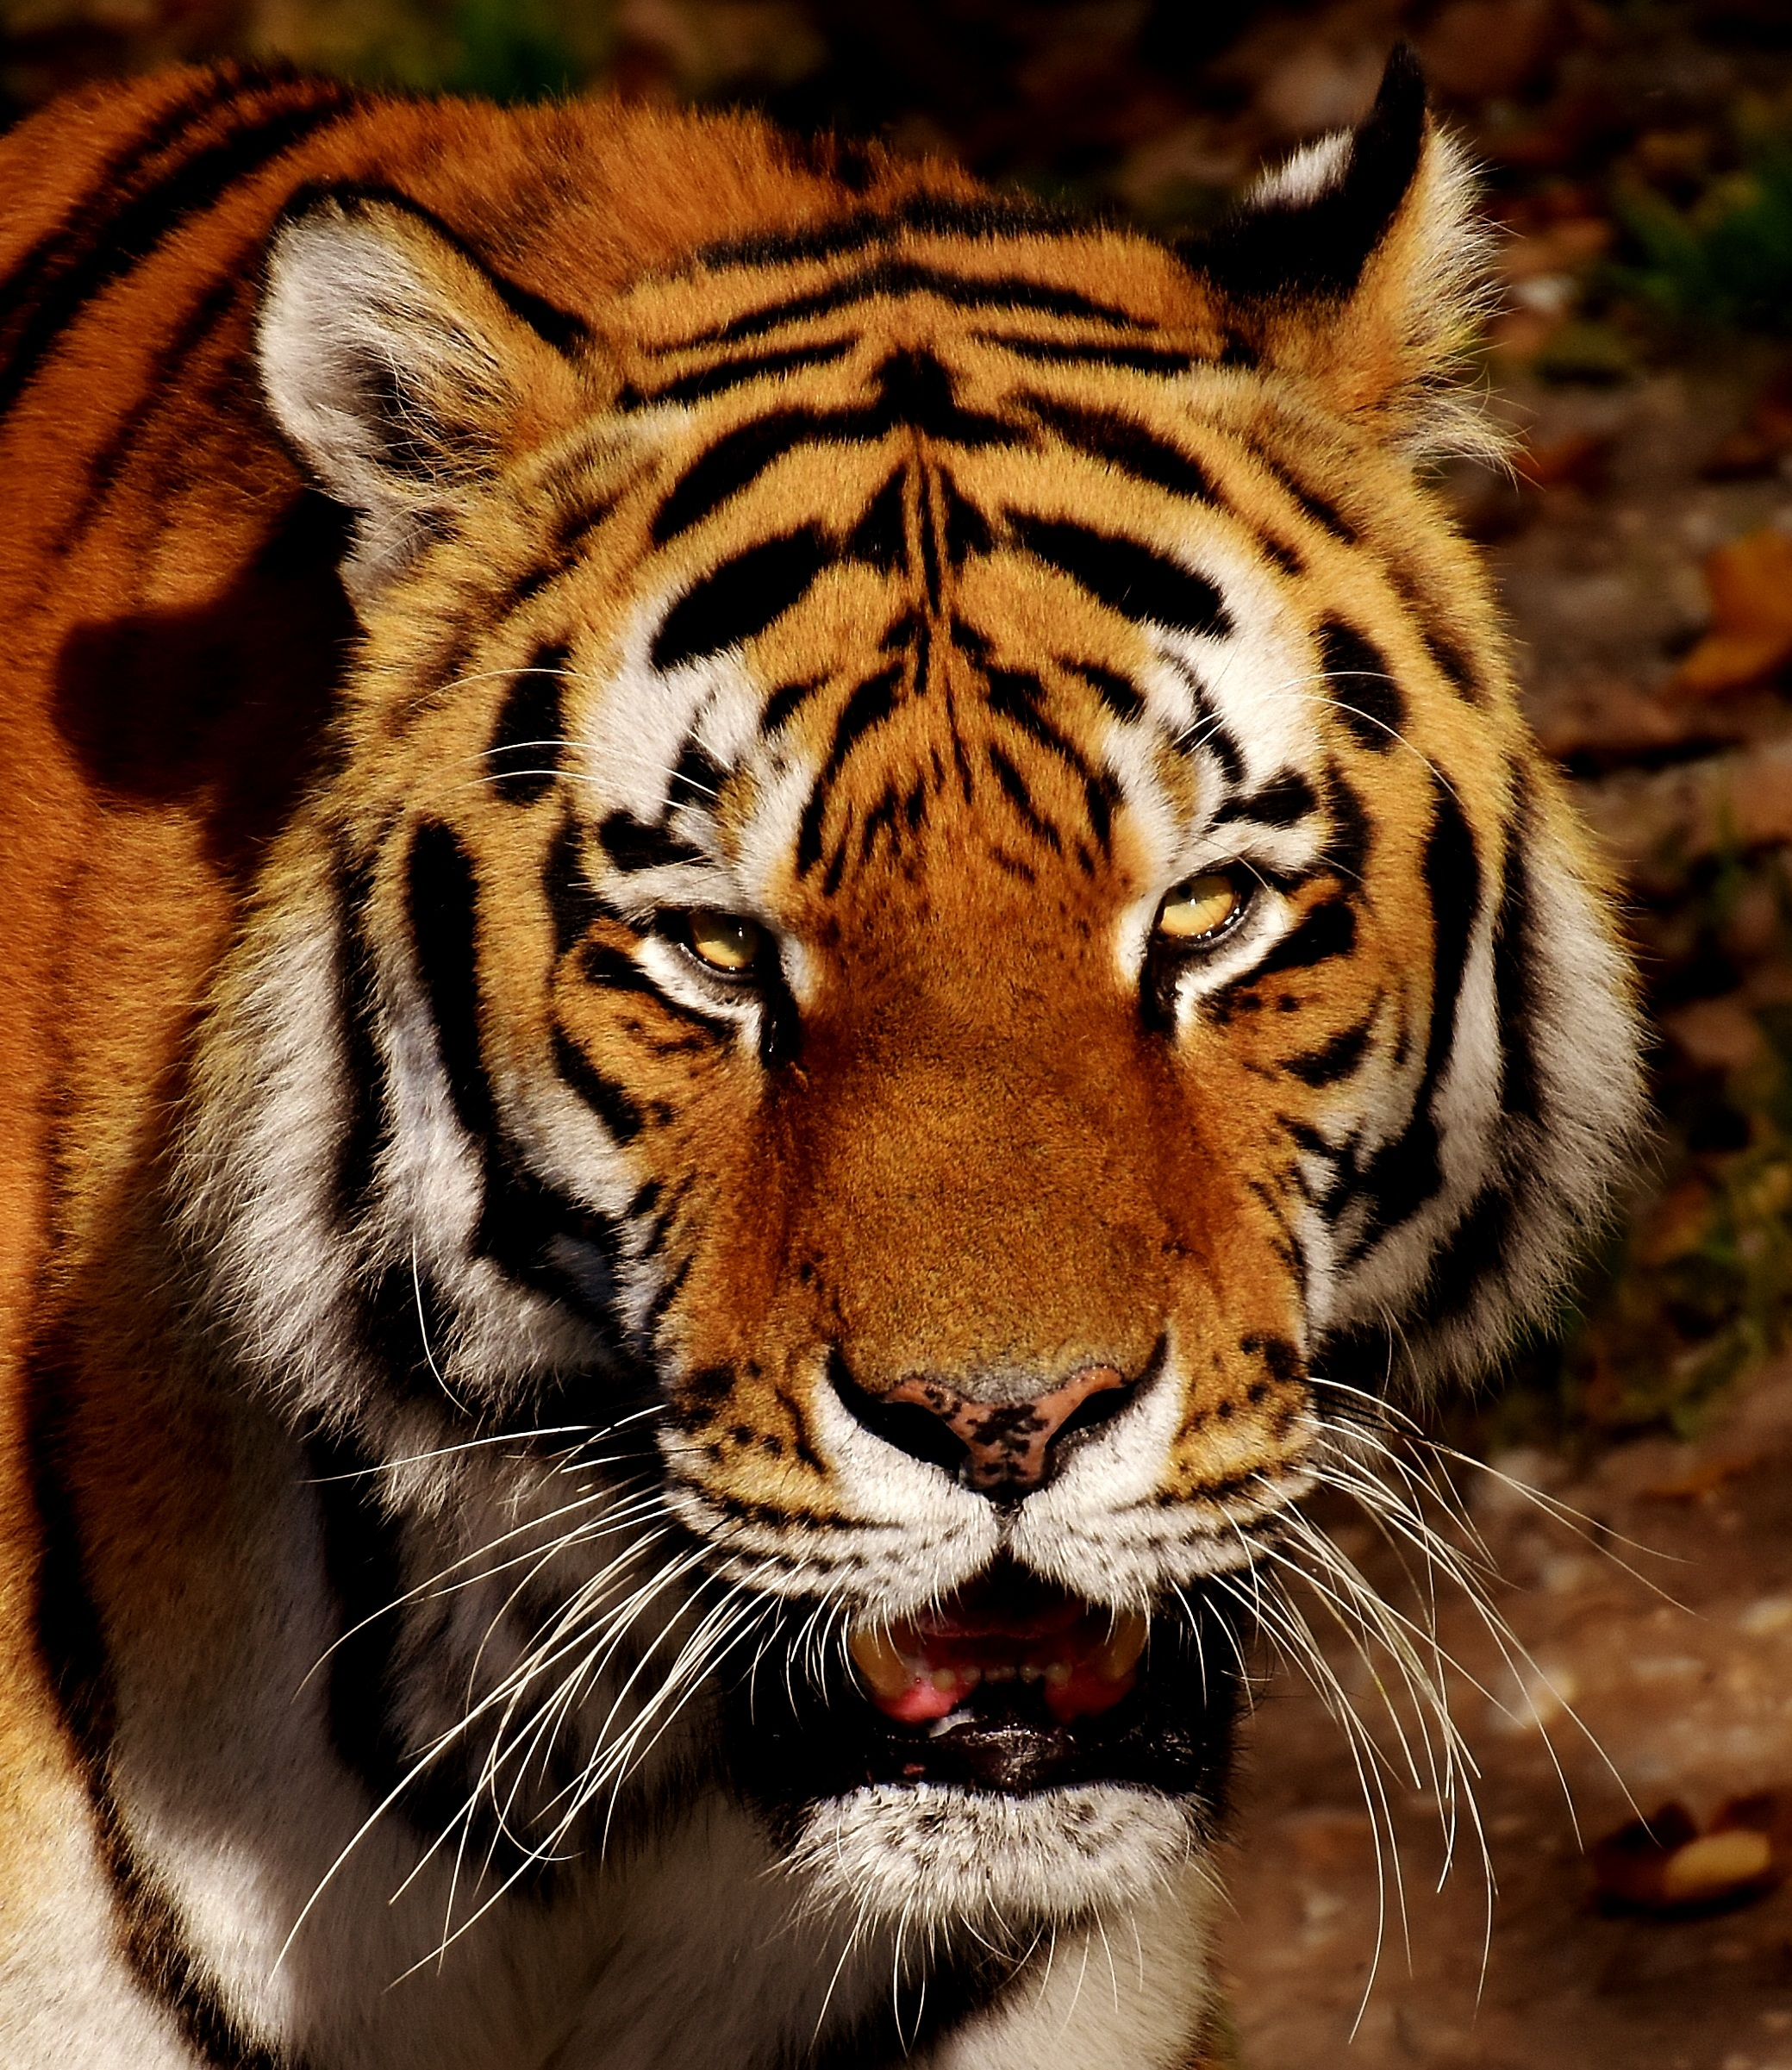tiger: (14, 26, 1702, 2033)
